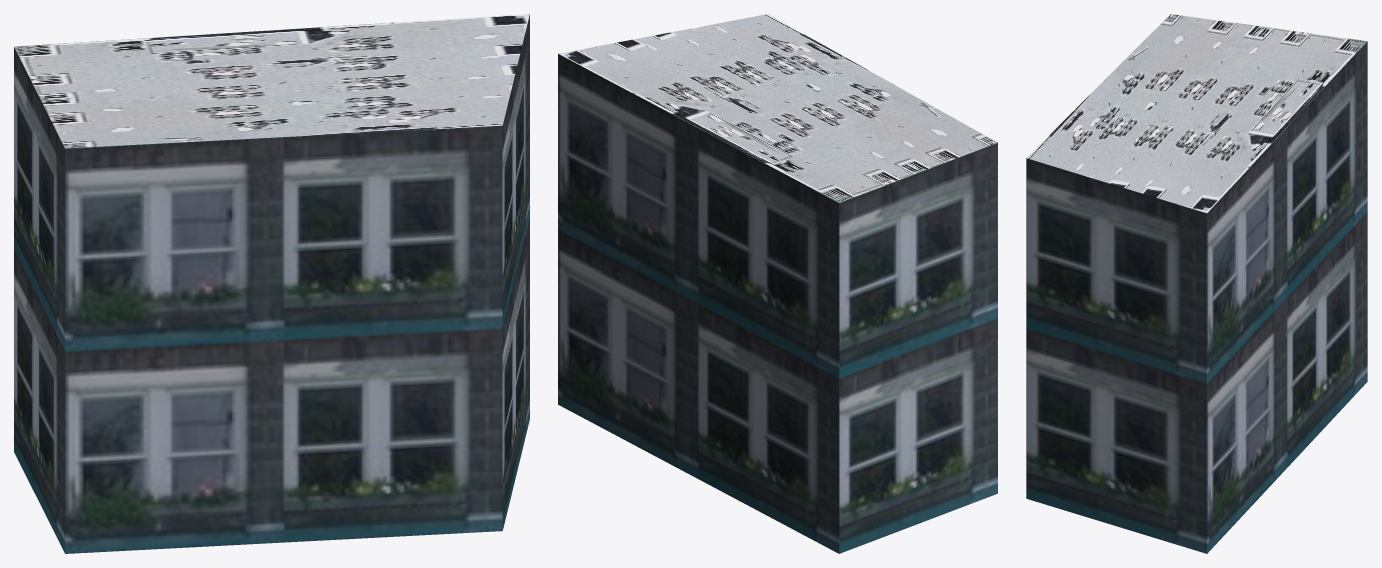
Rendered from ResTex__3132.fbx.
3 views of the same model, side by side, from view 1: azimuth 30°, elevation 25°; view 2: azimuth 150°, elevation 25°; view 3: azimuth 270°, elevation 25° (orthographic). The views are drawn at different scales.
Parts seen in each view (by area): view 1: CityEngineMaterial_11_m, CityEngineMaterial_4_m; view 2: CityEngineMaterial_11_m, CityEngineMaterial_4_m; view 3: CityEngineMaterial_11_m, CityEngineMaterial_4_m.
Part boxes in pixels (x1,y1,x2,y2): CityEngineMaterial_11_m: (14, 15, 529, 553); CityEngineMaterial_4_m: (14, 14, 529, 148); CityEngineMaterial_11_m: (558, 54, 997, 553); CityEngineMaterial_4_m: (558, 14, 997, 202); CityEngineMaterial_11_m: (1026, 41, 1367, 553); CityEngineMaterial_4_m: (1026, 14, 1367, 213).
Size of the model in its own units: 7.53 by 6 by 5.45.
Materials: 2 (2 with a texture image).
